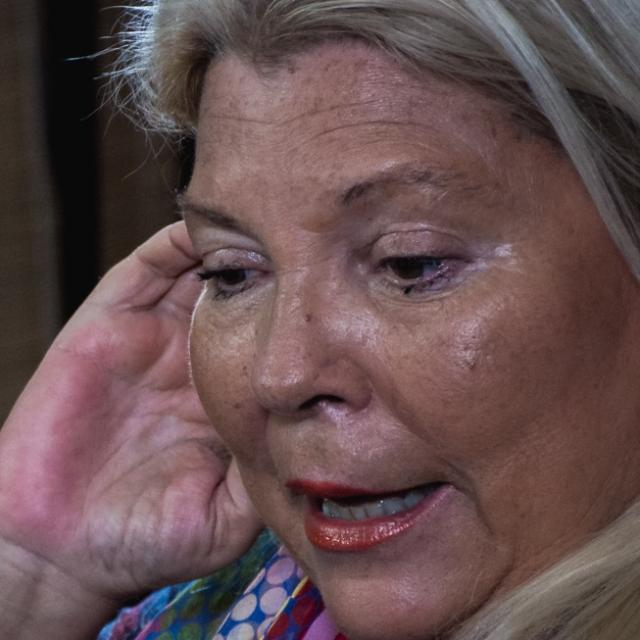Depress: (183, 47, 635, 639)
